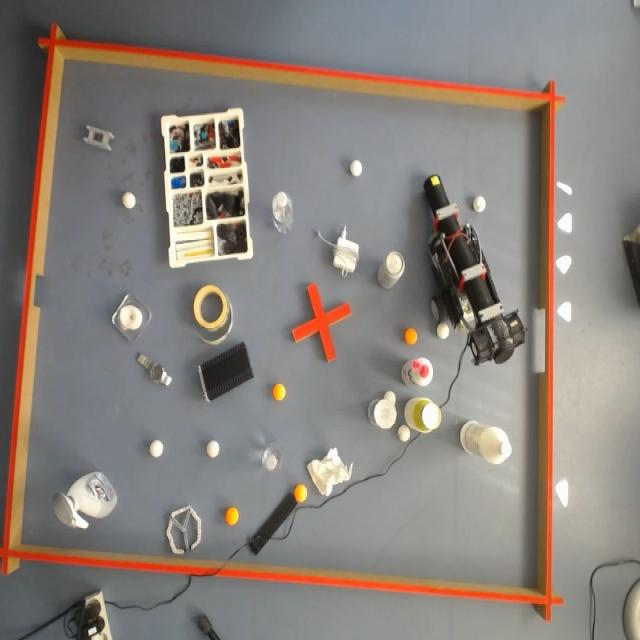orange: (224, 507, 239, 527), (293, 485, 308, 504), (272, 384, 286, 403), (404, 328, 418, 345)
robot: (425, 175, 527, 365)
robot-front: (428, 174, 443, 189)
white: (121, 191, 136, 209), (206, 440, 220, 459), (149, 440, 163, 459), (437, 321, 451, 340), (473, 195, 487, 212), (350, 159, 363, 177), (398, 425, 411, 443), (384, 391, 397, 405)
